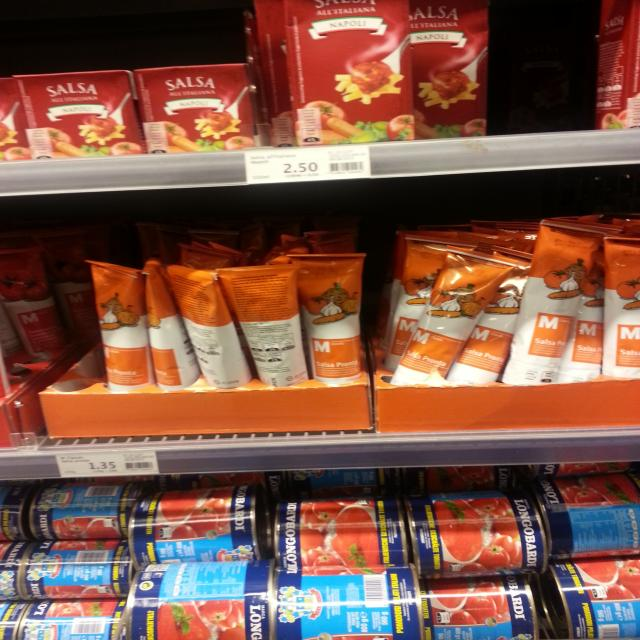Canned: (398, 490, 548, 582), (113, 559, 282, 640), (269, 558, 428, 640), (115, 491, 266, 563), (272, 490, 415, 566), (520, 476, 640, 563), (411, 569, 540, 640), (539, 556, 640, 640), (29, 479, 141, 541), (16, 545, 139, 599), (23, 599, 135, 640)
Sauce: (500, 227, 623, 389), (390, 242, 517, 397), (280, 0, 413, 144), (280, 252, 379, 386), (396, 0, 492, 138), (157, 264, 252, 399), (214, 268, 306, 397), (136, 66, 260, 156), (19, 71, 139, 164), (93, 261, 164, 391), (0, 248, 71, 366), (605, 236, 640, 386)
